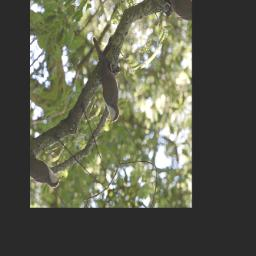Cuckoo: (70, 33, 135, 129)
